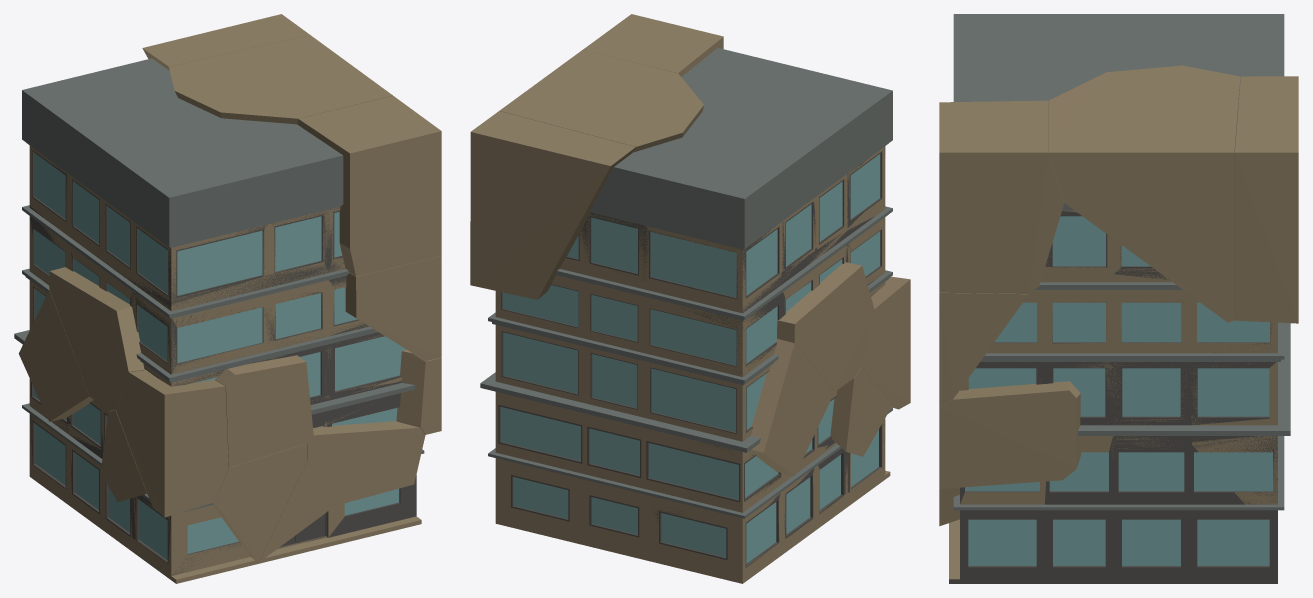
The model's file is Skyscraper.fbx.
The picture shows the model from 3 angles, left to right: view 1: azimuth 30°, elevation 25°; view 2: azimuth 150°, elevation 25°; view 3: azimuth 270°, elevation 25°; orthographic projection. The views are drawn at different scales.
Visible parts, largest first — view 1: Skyscraper, Skyscraper_cell.025, Skyscraper_cell.006, Skyscraper_cell.004, Skyscraper_cell.014, Skyscraper_cell.032, Skyscraper_cell.007, Skyscraper_cell.013, Skyscraper_cell.018, Skyscraper_cell.020, Skyscraper_cell.019, Skyscraper_cell.015 (+3 smaller); view 2: Skyscraper, Skyscraper_cell.025, Skyscraper_cell.015, Skyscraper_cell.014, Skyscraper_cell.006, Skyscraper_cell.013, Skyscraper_cell.032, Skyscraper_cell.004, Skyscraper_cell.036, Skyscraper_cell.038, Skyscraper_cell.031; view 3: Skyscraper_cell.006, Skyscraper_cell.014, Skyscraper, Skyscraper_cell.004, Skyscraper_cell.015, Skyscraper_cell.025, Skyscraper_cell.016, Skyscraper_cell.020, Skyscraper_cell.002, Skyscraper_cell.024, Skyscraper_cell.034, Skyscraper_cell.017 (+1 smaller).
Boxes of the visible parts, x1,y1,x2,y2 form: Skyscraper: (14, 58, 407, 580); Skyscraper_cell.025: (14, 118, 424, 583); Skyscraper_cell.006: (32, 119, 424, 583); Skyscraper_cell.004: (297, 96, 441, 276); Skyscraper_cell.014: (169, 35, 392, 124); Skyscraper_cell.032: (116, 370, 228, 517); Skyscraper_cell.007: (215, 355, 313, 467); Skyscraper_cell.013: (49, 267, 145, 410); Skyscraper_cell.018: (307, 421, 425, 505); Skyscraper_cell.020: (345, 256, 441, 361); Skyscraper_cell.019: (213, 443, 307, 562); Skyscraper_cell.015: (142, 14, 309, 70); Skyscraper: (480, 67, 892, 583); Skyscraper_cell.025: (499, 48, 892, 583); Skyscraper_cell.015: (470, 111, 635, 299); Skyscraper_cell.014: (499, 50, 703, 152); Skyscraper_cell.006: (495, 167, 891, 477); Skyscraper_cell.013: (777, 262, 874, 391); Skyscraper_cell.032: (861, 276, 910, 409); Skyscraper_cell.004: (583, 14, 723, 76); Skyscraper_cell.036: (830, 367, 892, 456); Skyscraper_cell.038: (674, 442, 784, 565); Skyscraper_cell.031: (520, 369, 663, 526); Skyscraper_cell.006: (949, 85, 1290, 583); Skyscraper_cell.014: (1048, 65, 1240, 322); Skyscraper: (956, 14, 1290, 567); Skyscraper_cell.004: (939, 100, 1064, 293); Skyscraper_cell.015: (1234, 76, 1298, 323); Skyscraper_cell.025: (949, 14, 1290, 561); Skyscraper_cell.016: (939, 381, 1080, 488); Skyscraper_cell.020: (939, 292, 1028, 406); Skyscraper_cell.002: (1192, 436, 1284, 540); Skyscraper_cell.024: (964, 481, 1087, 583); Skyscraper_cell.034: (1191, 320, 1290, 438); Skyscraper_cell.017: (1078, 416, 1192, 430).
Bounding box in the file's own units: 226 × 306 × 226.
